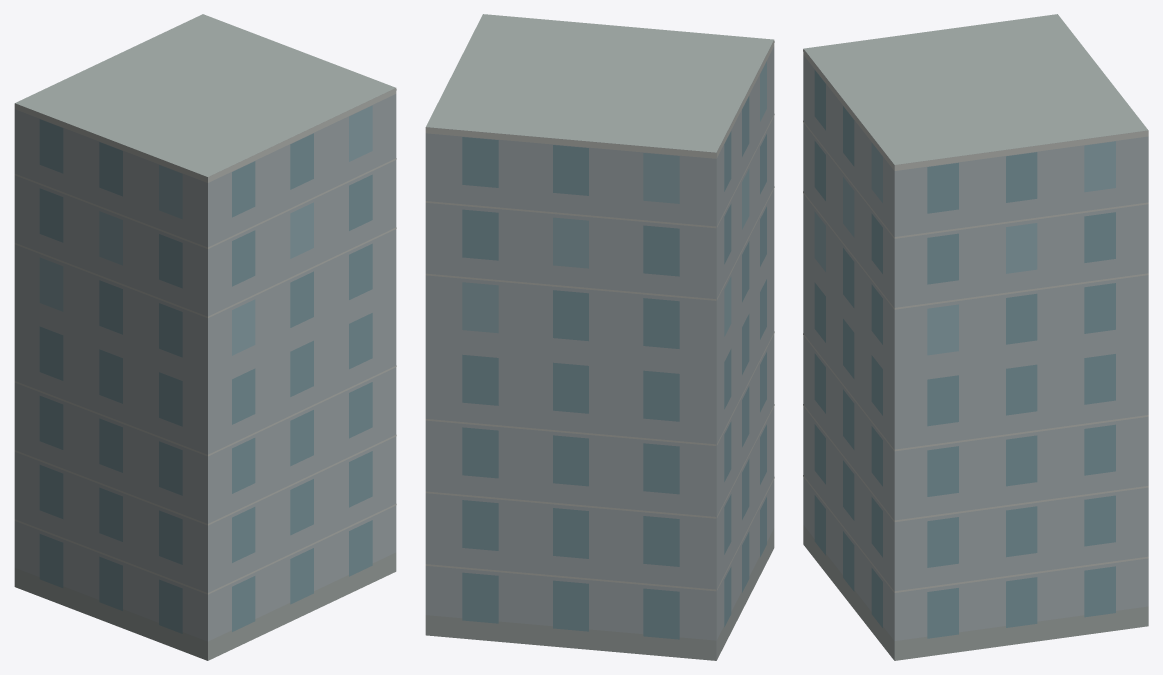
File: survey-upis-32731826.glb
3 views of the same model, side by side, from view 1: azimuth 30°, elevation 25°; view 2: azimuth 150°, elevation 25°; view 3: azimuth 270°, elevation 25° (orthographic). The views are drawn at different scales.
Visible parts, largest first — view 1: survey-upis-32731826.tmp; view 2: survey-upis-32731826.tmp; view 3: survey-upis-32731826.tmp.
Part boxes in pixels (x1=…): survey-upis-32731826.tmp: x1=14, y1=14, x2=396, y2=660; survey-upis-32731826.tmp: x1=425, y1=14, x2=774, y2=660; survey-upis-32731826.tmp: x1=803, y1=14, x2=1148, y2=660.
Bounding box in the file's own units: 12.96 × 19.8 × 12.51.
